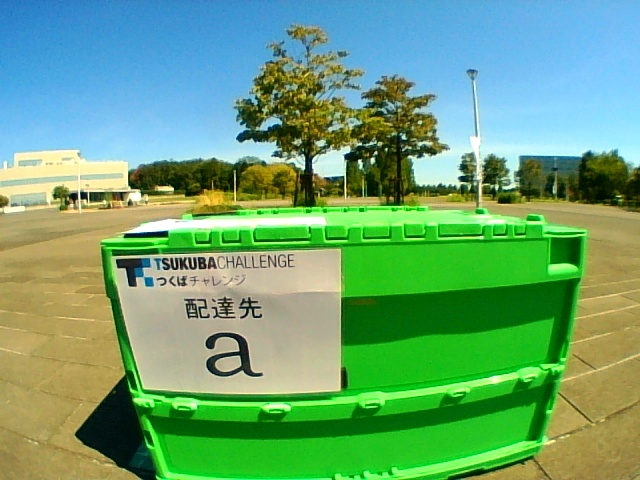green_box: (102, 205, 587, 476)
tag_a: (142, 257, 341, 389)
